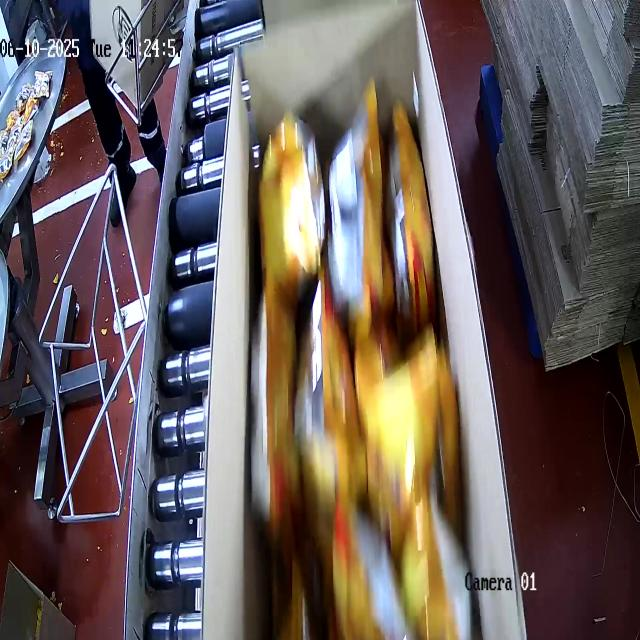FRENCH_CHEESE: (237, 104, 473, 640)
